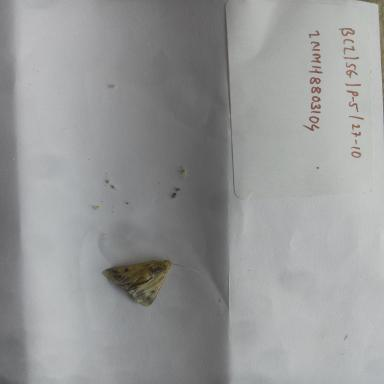abw: (99, 235, 190, 312)
